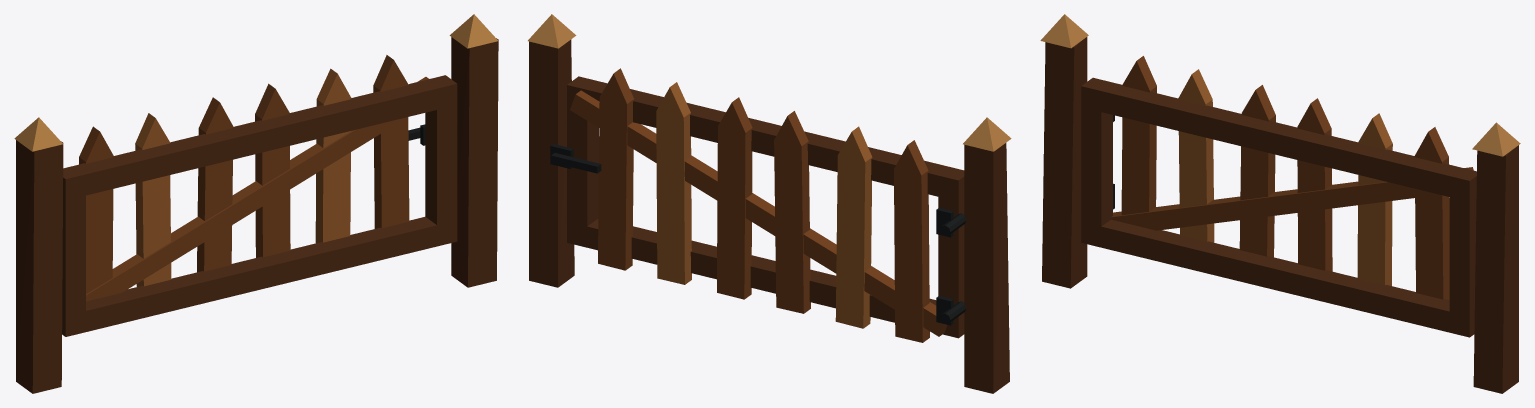
The model's file is fence_gate_3m.obj.
The picture shows the model from 3 angles, left to right: view 1: azimuth 30°, elevation 25°; view 2: azimuth 150°, elevation 25°; view 3: azimuth 330°, elevation 25°; orthographic projection.
Parts seen in each view (by area): view 1: gate_top, gate_bottom, post_left_shaft, post_right_shaft, diagonal_brace, gate_picket_6, gate_right, gate_picket_4, gate_picket_5, gate_picket_2, gate_picket_3, gate_left (+3 smaller); view 2: post_left_shaft, post_right_shaft, gate_picket_1, gate_picket_3, gate_picket_4, gate_picket_2, gate_picket_5, gate_picket_6, gate_top, diagonal_brace, gate_bottom, gate_right (+4 smaller); view 3: gate_top, gate_bottom, post_right_shaft, post_left_shaft, diagonal_brace, gate_right, gate_picket_6, gate_left, gate_picket_1, gate_picket_2, gate_picket_5, gate_picket_4 (+3 smaller).
Boxes of the visible parts, left/top/right/bottom form: gate_top: left=63, top=76, right=454, bottom=199; gate_bottom: left=68, top=217, right=454, bottom=335; post_left_shaft: left=16, top=140, right=63, bottom=393; post_right_shaft: left=451, top=37, right=498, bottom=287; diagonal_brace: left=86, top=77, right=428, bottom=301; gate_picket_6: left=373, top=55, right=409, bottom=228; gate_right: left=425, top=75, right=457, bottom=242; gate_picket_4: left=255, top=83, right=290, bottom=257; gate_picket_5: left=315, top=68, right=351, bottom=243; gate_picket_2: left=135, top=113, right=171, bottom=286; gate_picket_3: left=197, top=97, right=233, bottom=272; gate_left: left=62, top=166, right=85, bottom=336; post_left_shaft: left=964, top=143, right=1009, bottom=393; post_right_shaft: left=529, top=39, right=574, bottom=287; gate_picket_1: left=894, top=140, right=929, bottom=342; gate_picket_3: left=774, top=111, right=810, bottom=313; gate_picket_4: left=717, top=97, right=752, bottom=299; gate_picket_2: left=835, top=126, right=872, bottom=328; gate_picket_5: left=656, top=82, right=691, bottom=284; gate_picket_6: left=598, top=68, right=634, bottom=270; gate_top: left=570, top=77, right=960, bottom=200; diagonal_brace: left=570, top=90, right=947, bottom=336; gate_bottom: left=570, top=219, right=955, bottom=332; gate_right: left=567, top=76, right=598, bottom=244; gate_top: left=1084, top=82, right=1466, bottom=200; gate_bottom: left=1084, top=219, right=1466, bottom=336; post_right_shaft: left=1473, top=145, right=1518, bottom=393; post_left_shaft: left=1042, top=37, right=1087, bottom=288; diagonal_brace: left=1111, top=167, right=1473, bottom=230; gate_right: left=1449, top=167, right=1476, bottom=337; gate_picket_6: left=1414, top=127, right=1449, bottom=299; gate_left: left=1081, top=77, right=1112, bottom=245; gate_picket_1: left=1121, top=56, right=1156, bottom=215; gate_picket_2: left=1178, top=69, right=1214, bottom=242; gate_picket_5: left=1357, top=113, right=1392, bottom=285; gate_picket_4: left=1297, top=98, right=1332, bottom=271.
Size of the model in its own units: 3.23 by 1.76 by 0.3975.
